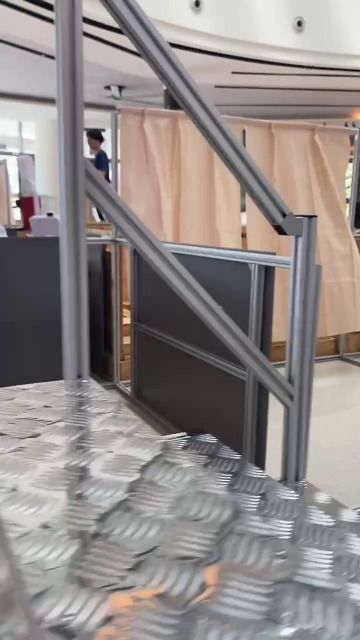curtain: (90, 115, 353, 384)
